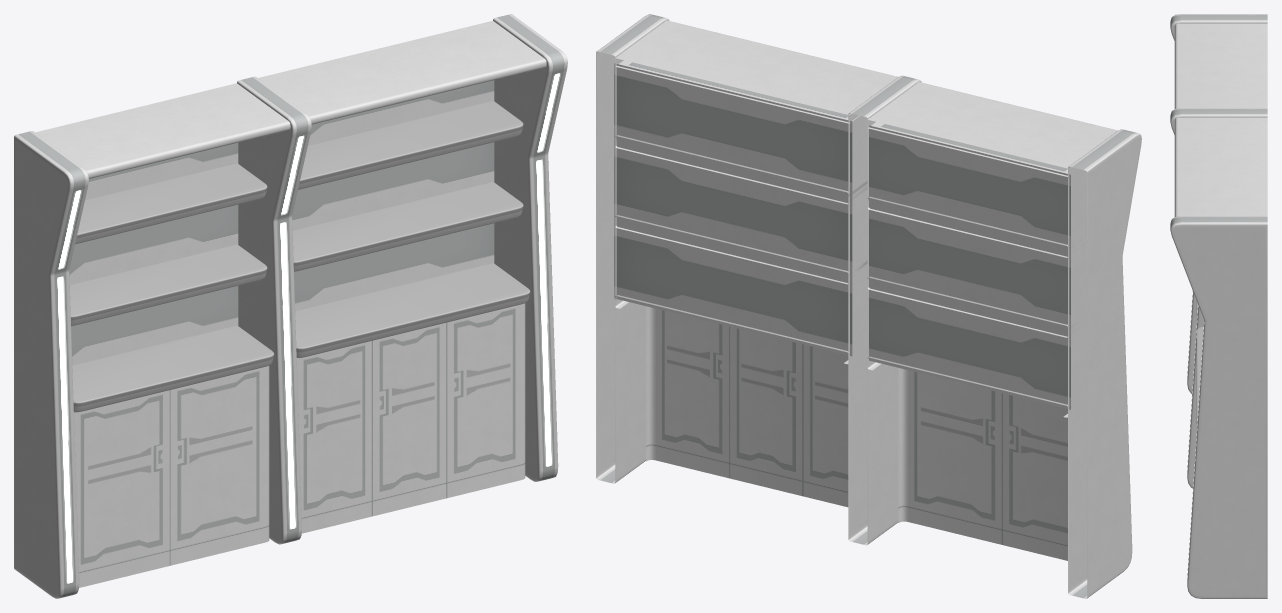
File: BarShelves01_1.FBX
The picture shows the model from 3 angles, left to right: view 1: azimuth 30°, elevation 25°; view 2: azimuth 150°, elevation 25°; view 3: azimuth 270°, elevation 25°; orthographic projection. The views are drawn at different scales.
Parts seen in each view (by area): view 1: BarShelves01_1; view 2: BarShelves01_1; view 3: BarShelves01_1.
Boxes of the visible parts, x1=… form: BarShelves01_1: x1=14, y1=14, x2=567, y2=598; BarShelves01_1: x1=596, y1=14, x2=1141, y2=598; BarShelves01_1: x1=1170, y1=14, x2=1267, y2=598.
Size of what is drawn, in the model's own units: 3 by 2.5 by 0.5858.
